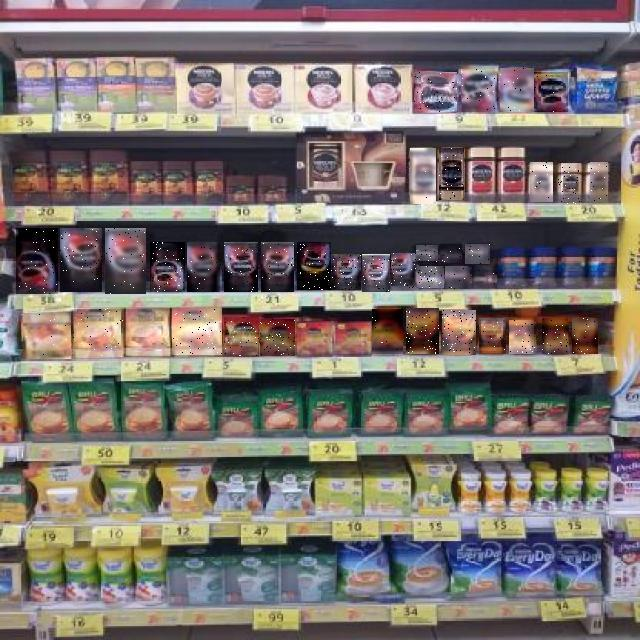Coffee: (16, 228, 58, 294), (105, 228, 146, 294), (60, 228, 102, 292), (73, 308, 124, 358), (172, 308, 222, 355), (23, 313, 71, 359), (127, 309, 171, 357), (414, 72, 457, 113), (150, 242, 185, 292), (224, 242, 258, 292), (188, 242, 222, 292), (261, 242, 294, 292), (297, 242, 331, 290), (442, 310, 476, 355), (462, 66, 495, 112), (406, 309, 439, 355), (500, 68, 534, 112), (410, 148, 436, 204), (372, 310, 403, 356), (224, 317, 259, 357), (534, 73, 568, 113), (439, 148, 464, 200), (260, 319, 295, 356), (331, 255, 361, 291), (362, 254, 390, 292), (392, 254, 420, 290), (479, 318, 506, 354), (543, 318, 569, 354), (573, 318, 599, 354), (530, 163, 553, 203), (510, 320, 536, 354), (558, 164, 580, 204), (590, 163, 608, 203), (446, 266, 472, 289), (419, 266, 445, 288), (472, 266, 497, 288), (466, 244, 492, 264), (440, 244, 462, 262), (416, 246, 438, 264)
